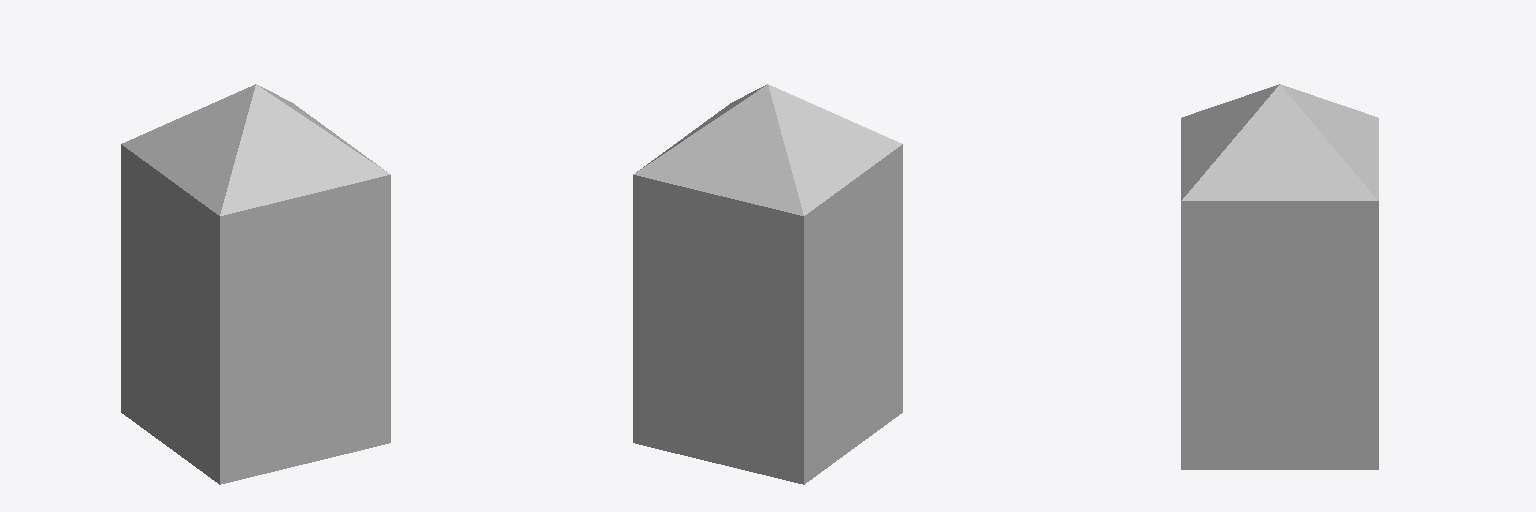
The model's file is ShelfEnd.obj.
3 renders of one model, left to right at view 1: azimuth 30°, elevation 25°; view 2: azimuth 150°, elevation 25°; view 3: azimuth 270°, elevation 25°, orthographic.
Visible parts, largest first — view 1: Cube; view 2: Cube; view 3: Cube.
Part boxes in pixels (x1,y1,x2,y2): Cube: (121,84,390,484); Cube: (633,84,902,484); Cube: (1181,84,1378,469).
Size of the model in its own units: 1 by 1.92 by 1.